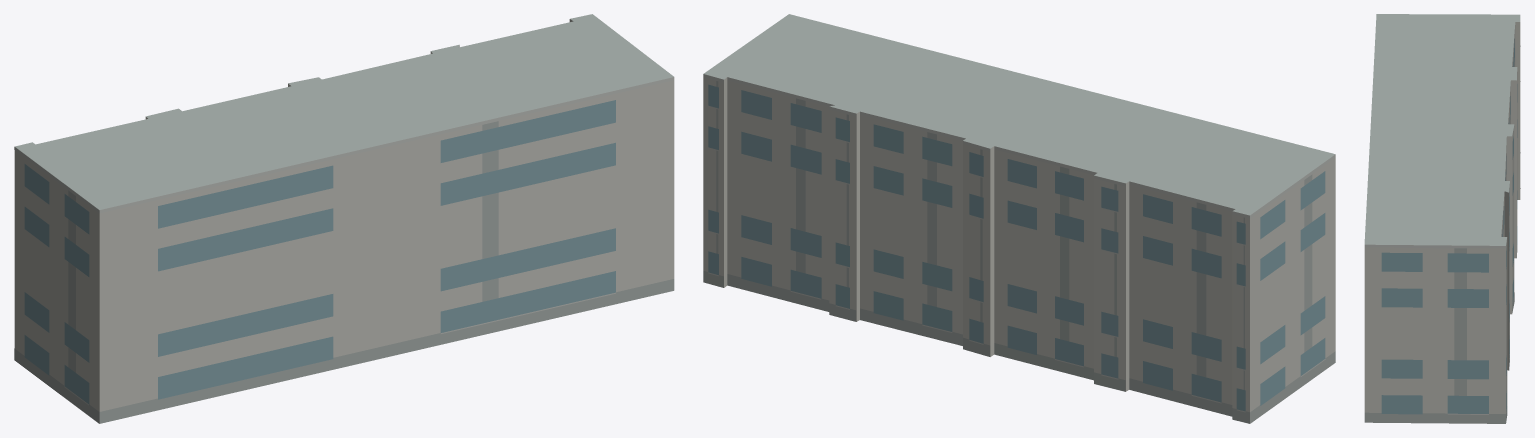
Rendered from survey-upis-32736902.glb.
3 views of the same model, side by side, from view 1: azimuth 30°, elevation 25°; view 2: azimuth 150°, elevation 25°; view 3: azimuth 270°, elevation 25° (orthographic). The views are drawn at different scales.
Parts seen in each view (by area): view 1: survey-upis-32736902.tmp; view 2: survey-upis-32736902.tmp; view 3: survey-upis-32736902.tmp.
Part boxes in pixels (<box>): survey-upis-32736902.tmp: <box>14,14,674,423</box>; survey-upis-32736902.tmp: <box>703,14,1335,423</box>; survey-upis-32736902.tmp: <box>1364,14,1520,423</box>.
Bounding box in the file's own units: 42.63 × 15.25 × 12.12.
